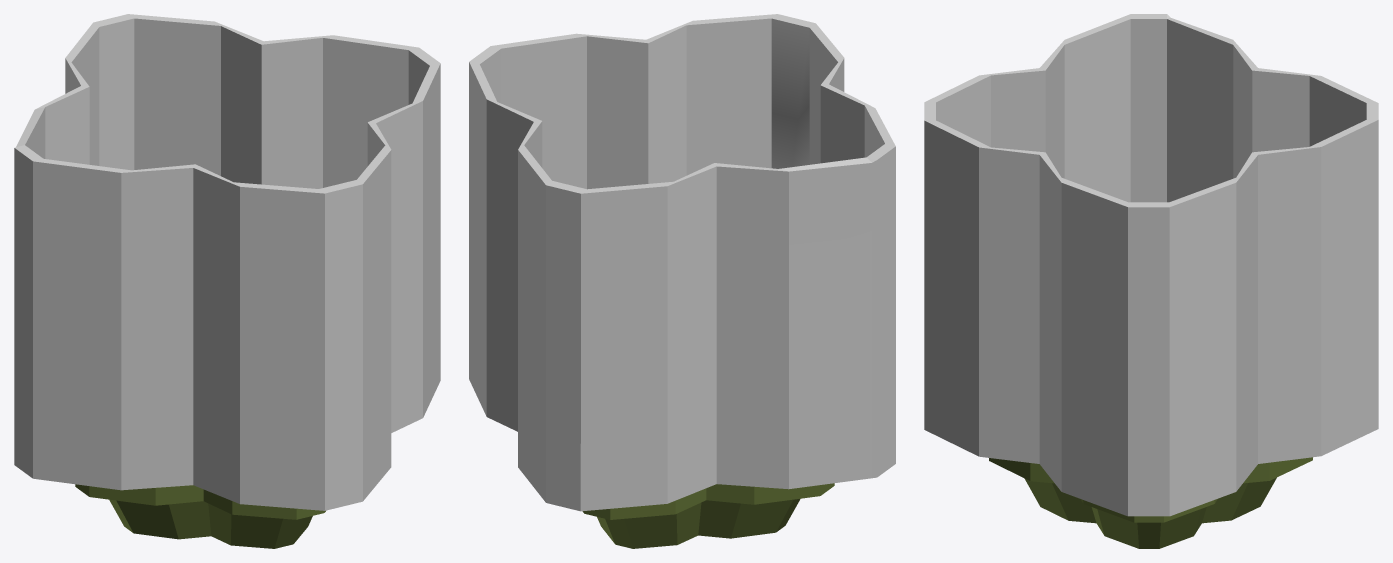
The model's file is flowerisland_Alexafix_fix 1.fbx.
3 renders of one model, left to right at view 1: azimuth 30°, elevation 25°; view 2: azimuth 150°, elevation 25°; view 3: azimuth 270°, elevation 25°, orthographic. The views are drawn at different scales.
Parts seen in each view (by area): view 1: z_barrier, y_island; view 2: z_barrier, y_island; view 3: z_barrier, y_island.
Part boxes in pixels (left/top/right/bottom): z_barrier: left=14, top=14, right=440, bottom=510; y_island: left=75, top=484, right=325, bottom=548; z_barrier: left=469, top=14, right=895, bottom=511; y_island: left=582, top=483, right=834, bottom=548; z_barrier: left=924, top=14, right=1378, bottom=516; y_island: left=989, top=457, right=1312, bottom=548.
Bounding box in the file's own units: 7654 × 7224 × 7611.
